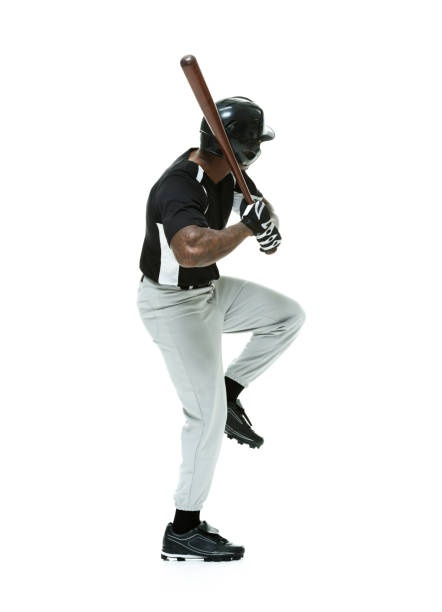bita: (180, 53, 274, 243)
